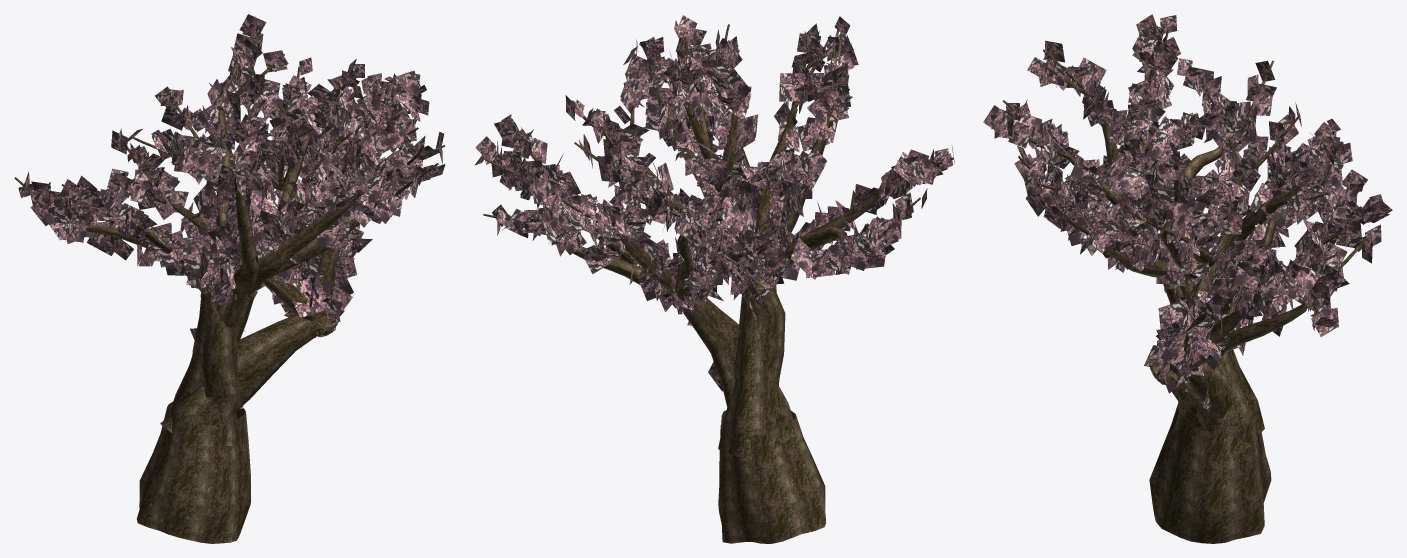
File: blossom_3x_3.glb
3 views of the same model, side by side, from view 1: azimuth 30°, elevation 25°; view 2: azimuth 150°, elevation 25°; view 3: azimuth 270°, elevation 25° (orthographic). The views are drawn at different scales.
Parts seen in each view (by area): view 1: blossom; view 2: blossom; view 3: blossom.
Part boxes in pixels (x1=…): blossom: x1=14, y1=14, x2=445, y2=543; blossom: x1=474, y1=15, x2=954, y2=543; blossom: x1=983, y1=14, x2=1392, y2=543.
Size of the model in its own units: 42.57 by 44.78 by 33.85.
2 materials, 2 textured.
